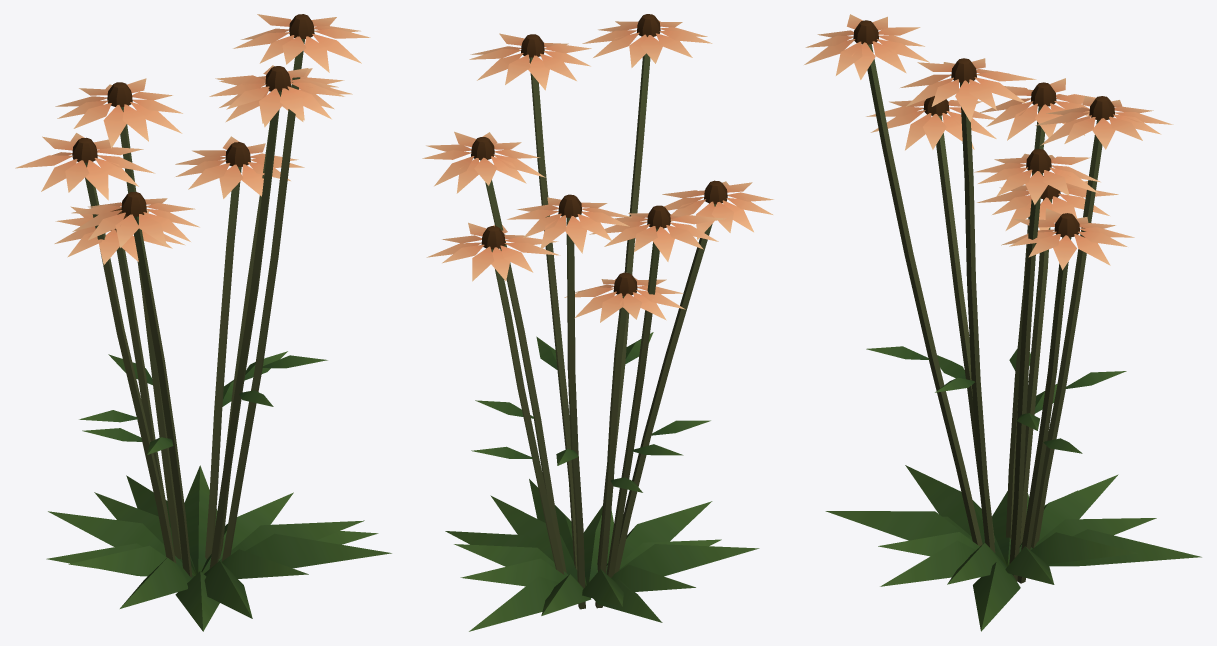
Rendered from flower-coneflower.lod0.glb.
3 views of the same model, side by side, from view 1: azimuth 30°, elevation 25°; view 2: azimuth 150°, elevation 25°; view 3: azimuth 270°, elevation 25° (orthographic). The views are drawn at different scales.
Parts seen in each view (by area): view 1: flower_coneflower_mesh; view 2: flower_coneflower_mesh; view 3: flower_coneflower_mesh.
Part boxes in pixels (<box>): flower_coneflower_mesh: <box>15,14,391,631</box>; flower_coneflower_mesh: <box>422,14,773,631</box>; flower_coneflower_mesh: <box>804,14,1201,631</box>.
Bounding box in the file's own units: 0.4778 × 0.8095 × 0.5259.
1 material, 1 textured.
